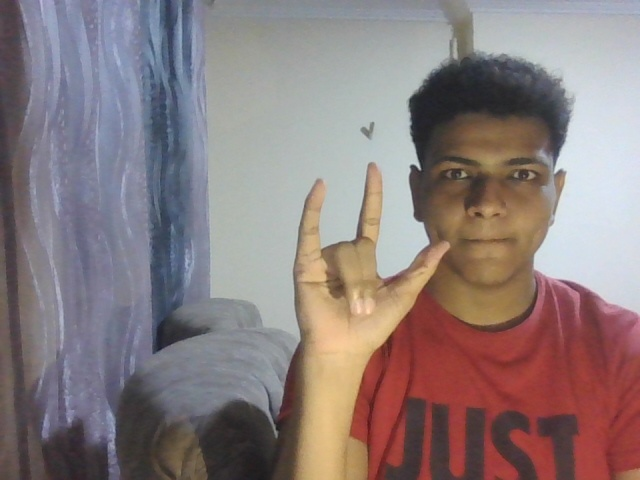iloveyou: (276, 156, 452, 370)
